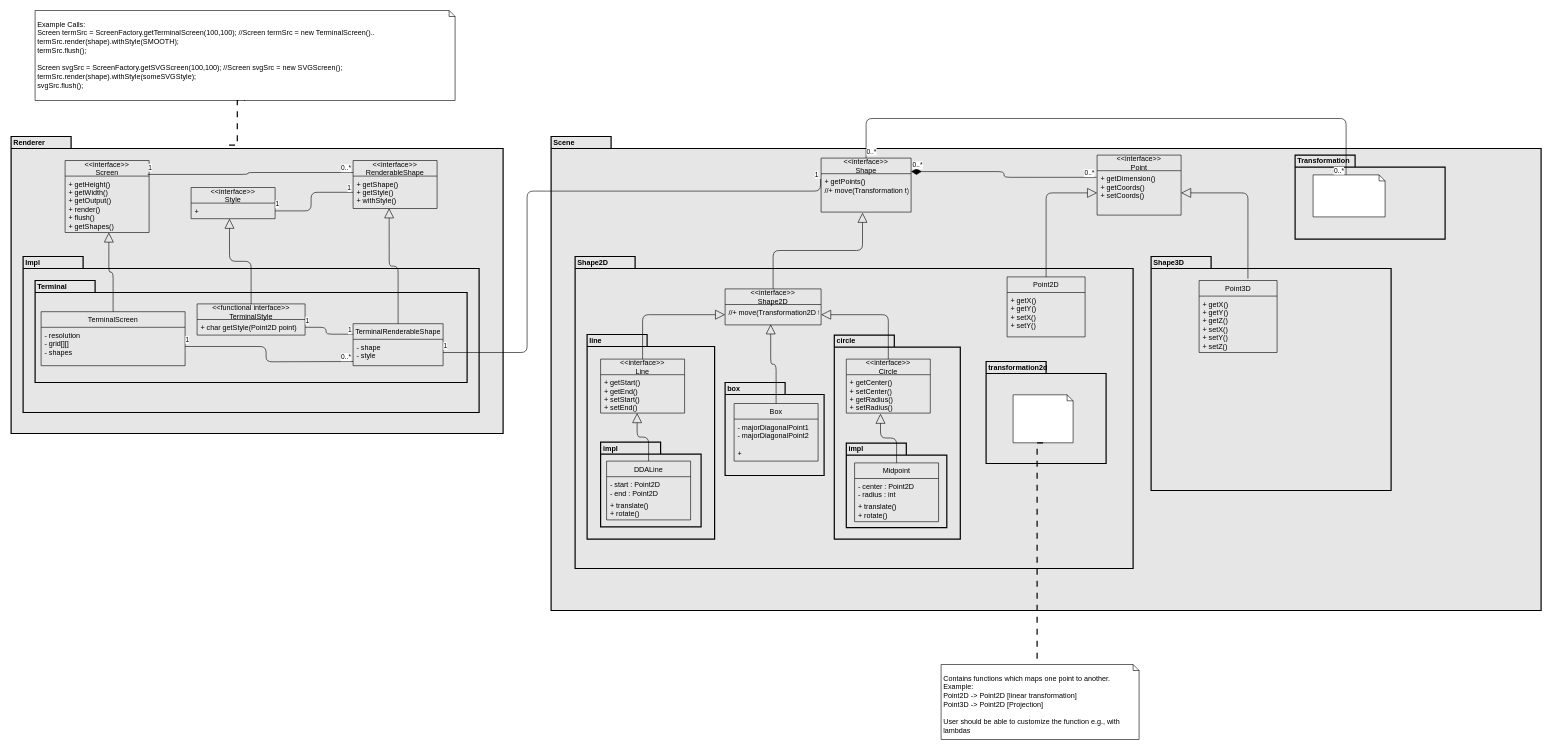
Image size: 1552x750. Some labels were removed from this diagram. The centre of each missing label's shape, as x and y in pixels:
"Generic Transformation interface" goes at [1348,195].
"Transformation module comes here" goes at [1042,418].
